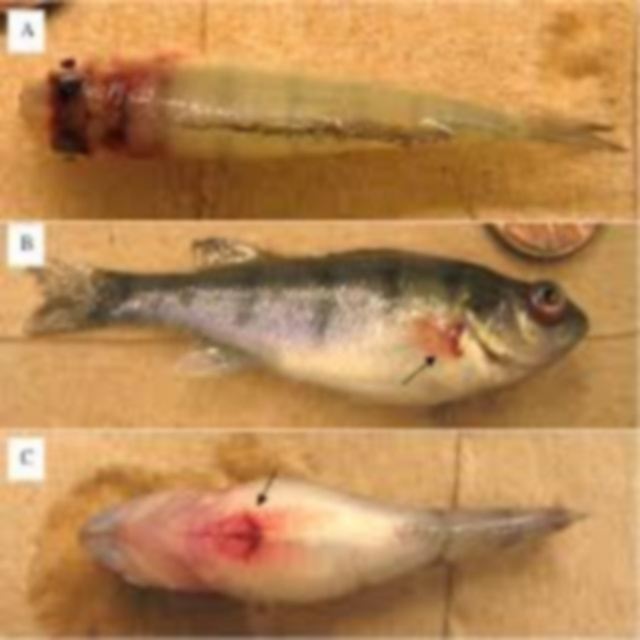EUS Disease: (14, 53, 632, 203), (22, 257, 600, 403), (82, 476, 598, 601), (20, 43, 218, 183), (174, 458, 326, 599), (364, 298, 518, 403)
